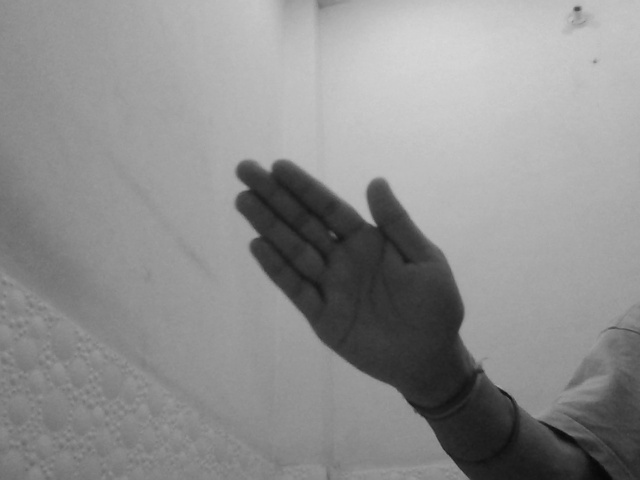Hello: (227, 158, 468, 376)
